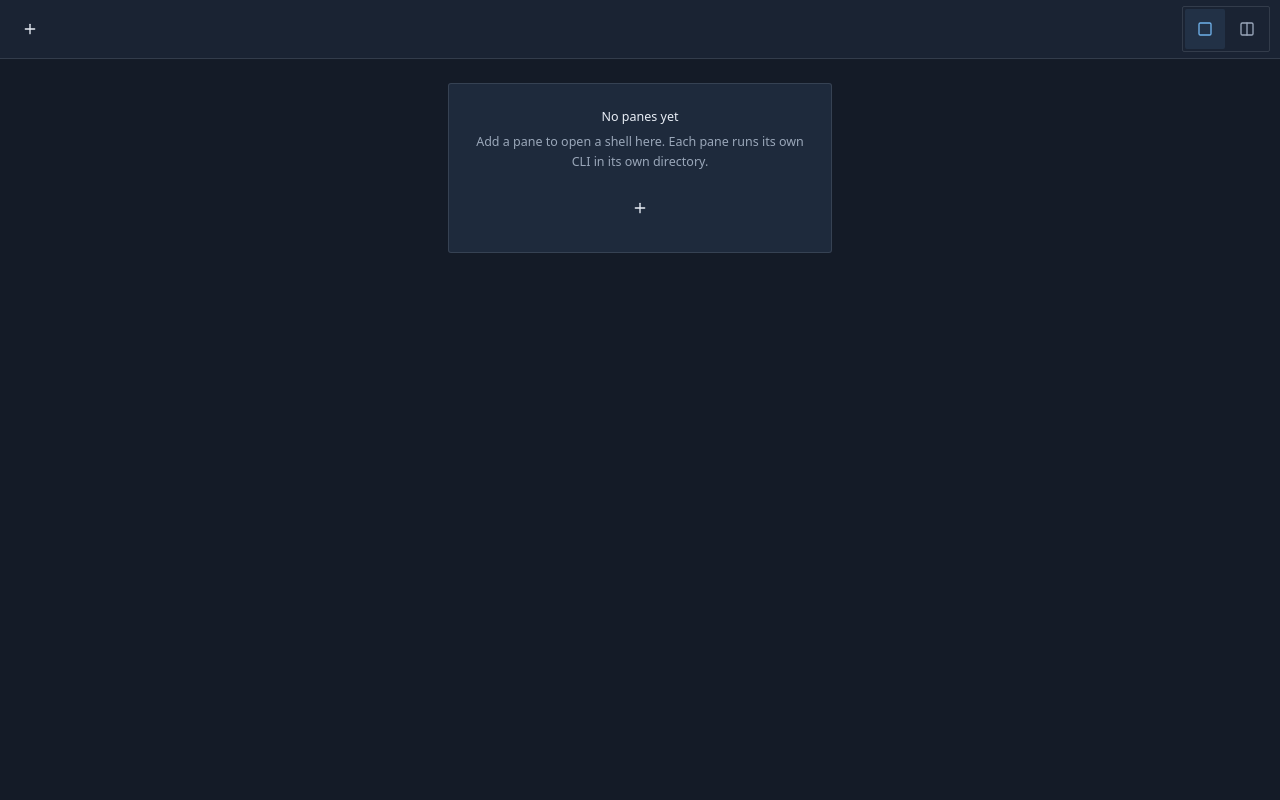
PaneGrid (the unified grid engine) › the "+" preset menu › opens a preset menu with only installed presets actionable
Click the 1st button named "new terminal" at (30, 29), box [10,9,50,49]
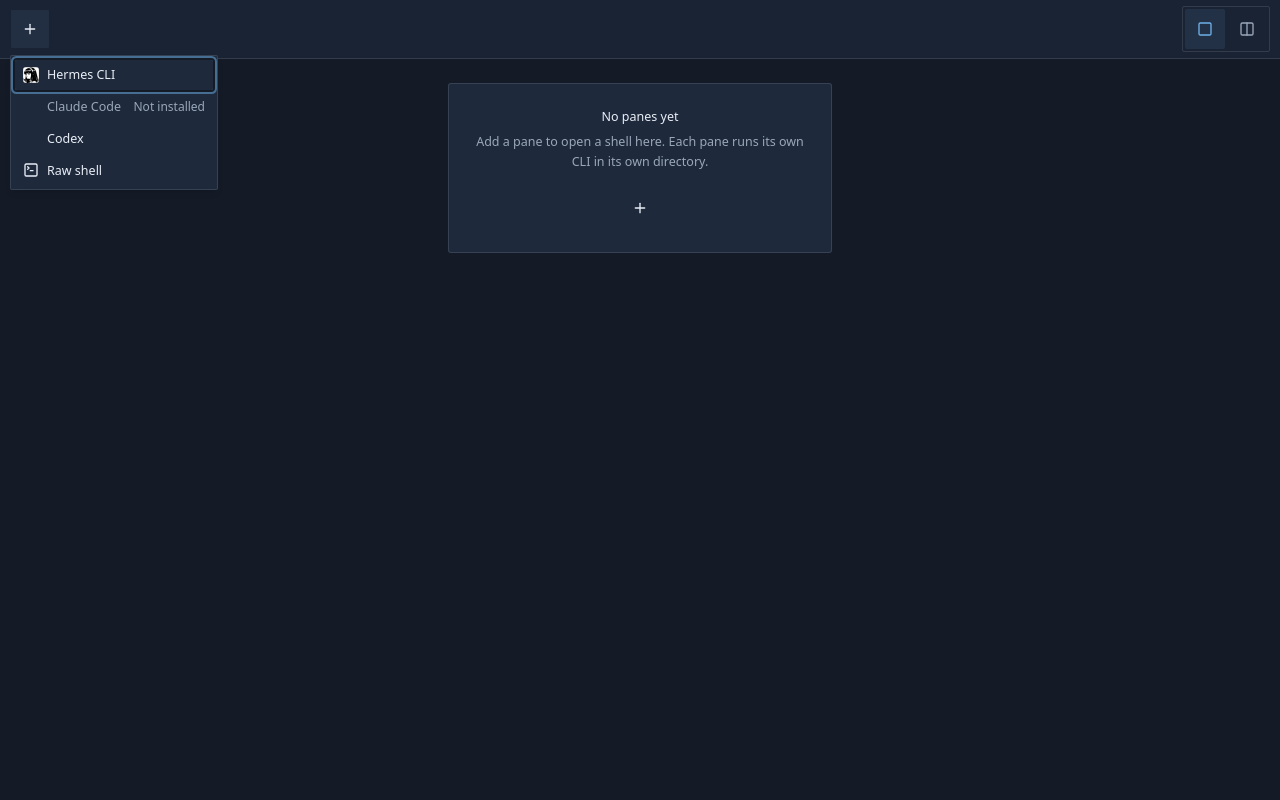
Check: the menu item "Hermes CLI" is enabled, box [15,60,213,90]
Check: the menu item "Raw shell" is enabled, box [15,156,213,185]
Check: the menu item "Claude Code Not installed" is disabled, box [15,92,213,122]
